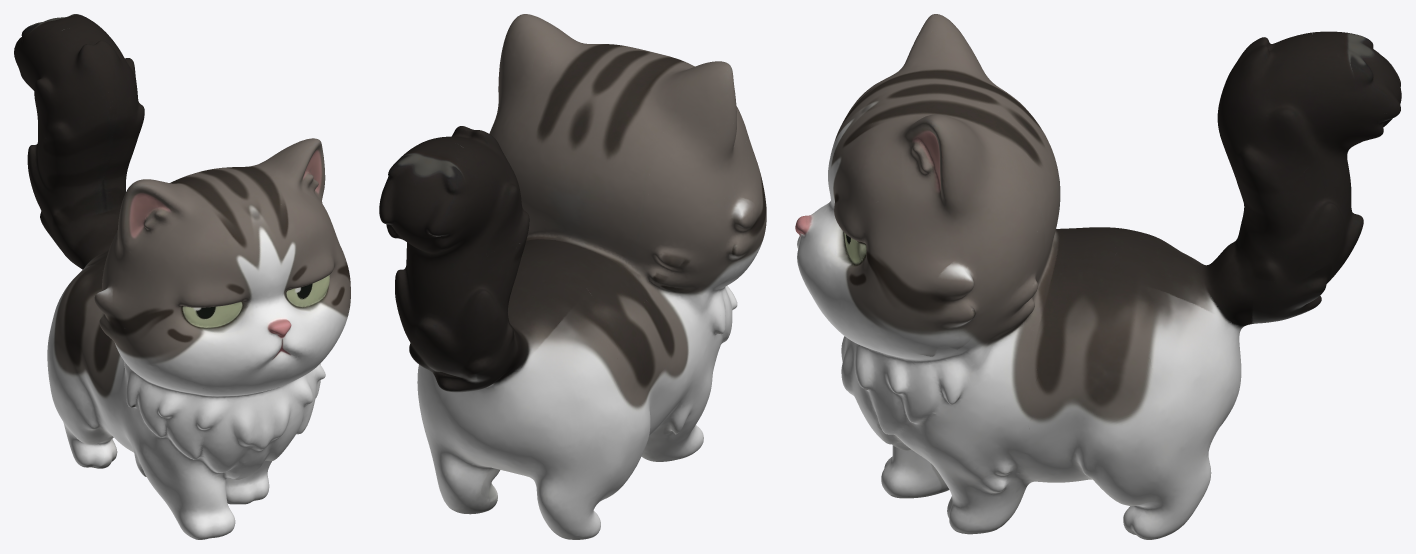
The model's file is felipe_meshy_original.glb.
3 views of the same model, side by side, from view 1: azimuth 30°, elevation 25°; view 2: azimuth 150°, elevation 25°; view 3: azimuth 270°, elevation 25° (orthographic). The views are drawn at different scales.
Size of the model in its own units: 1.07 by 1.62 by 1.9.
Materials: 1 (1 with a texture image).
